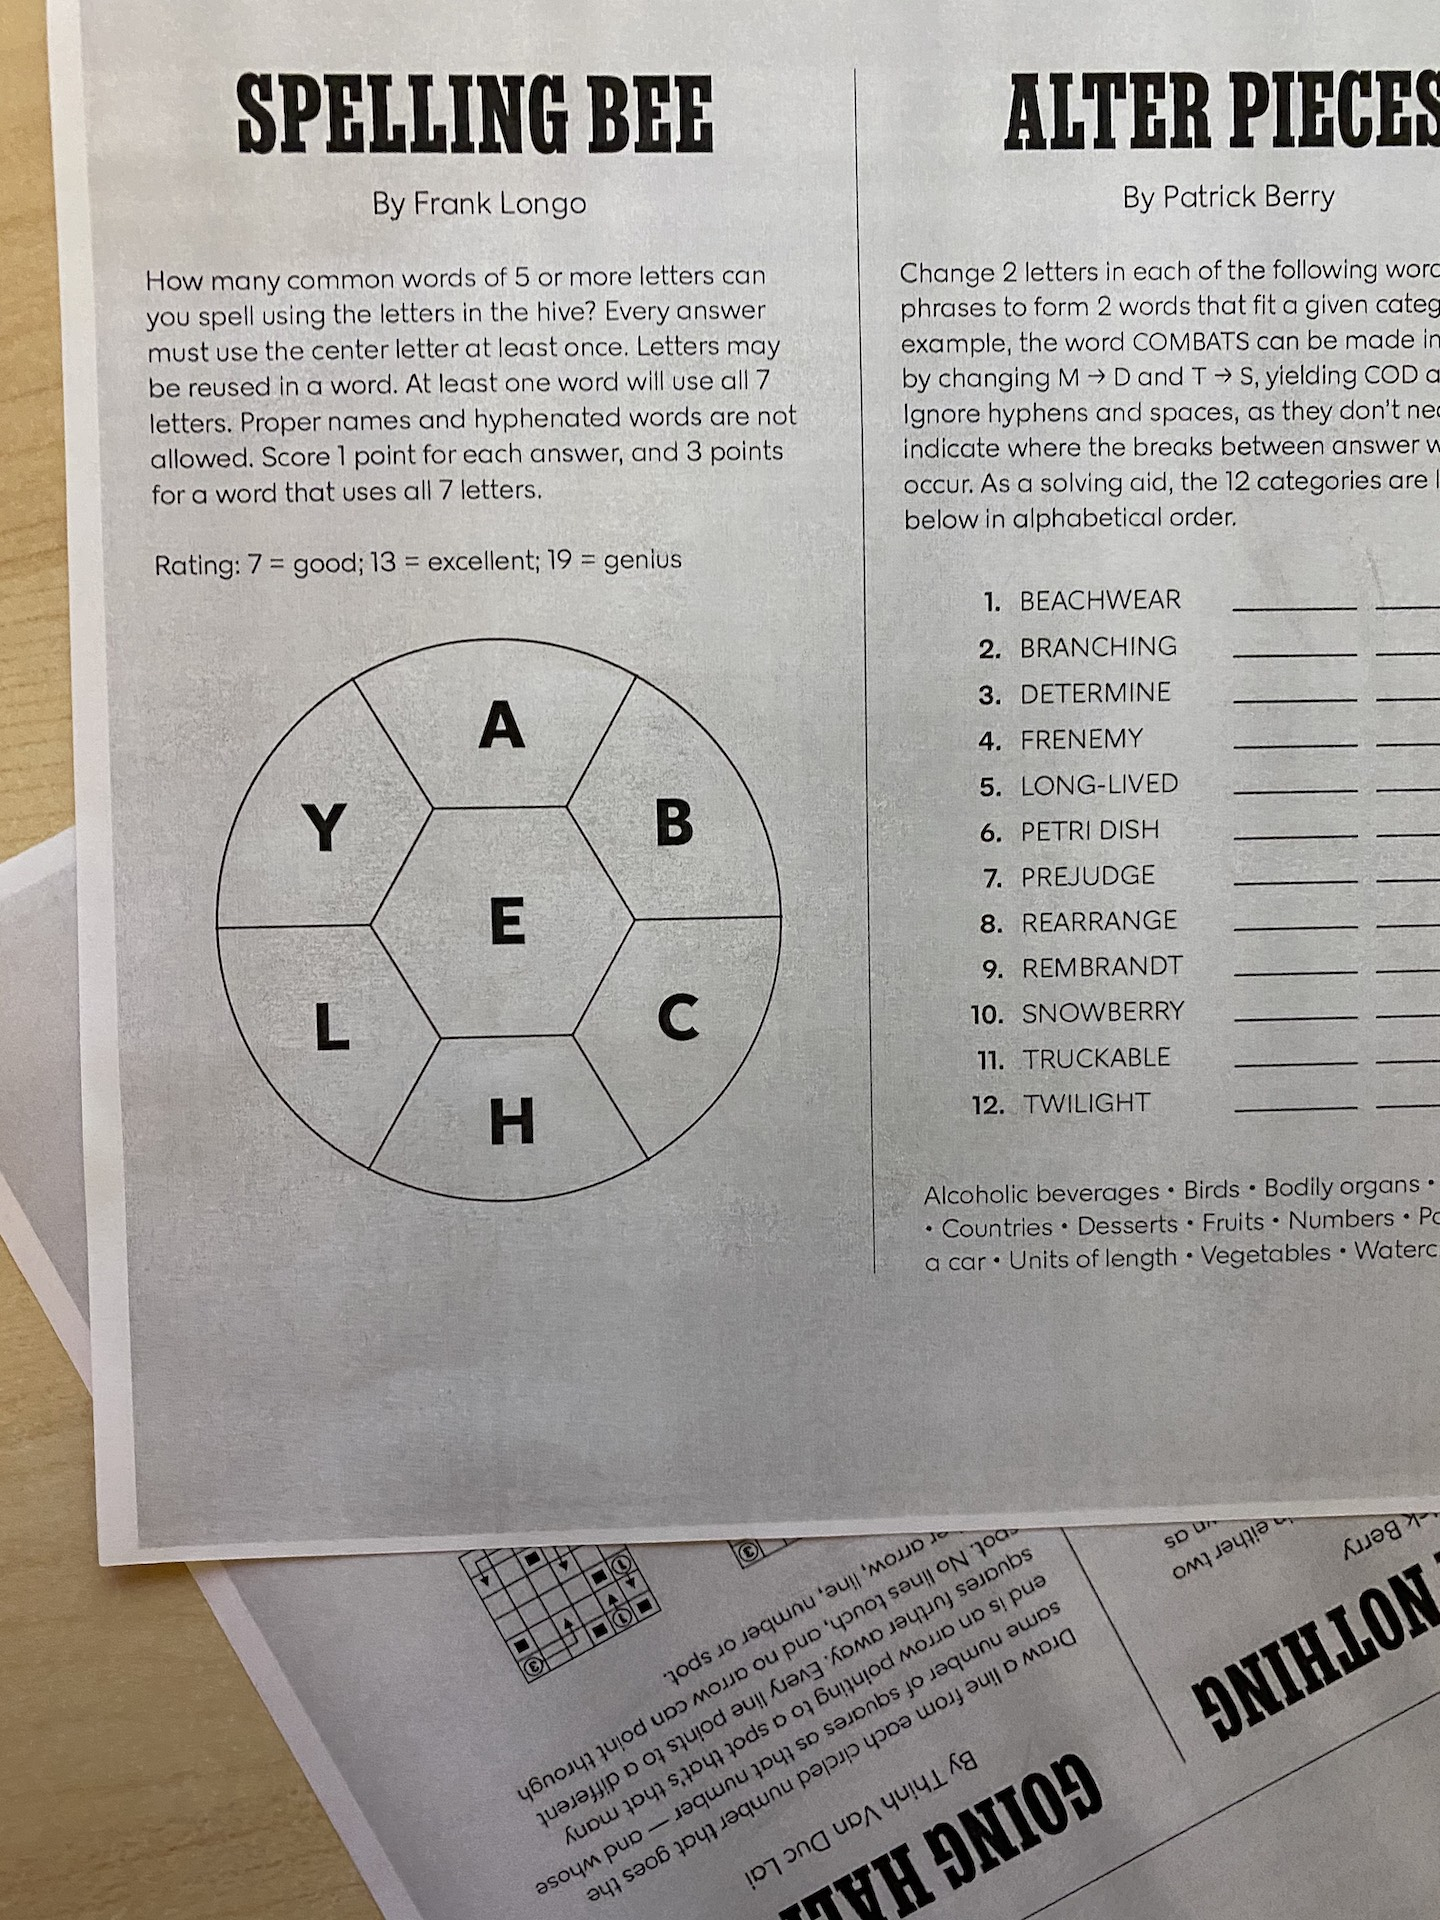PrintBoard: (201, 633, 799, 1215)
